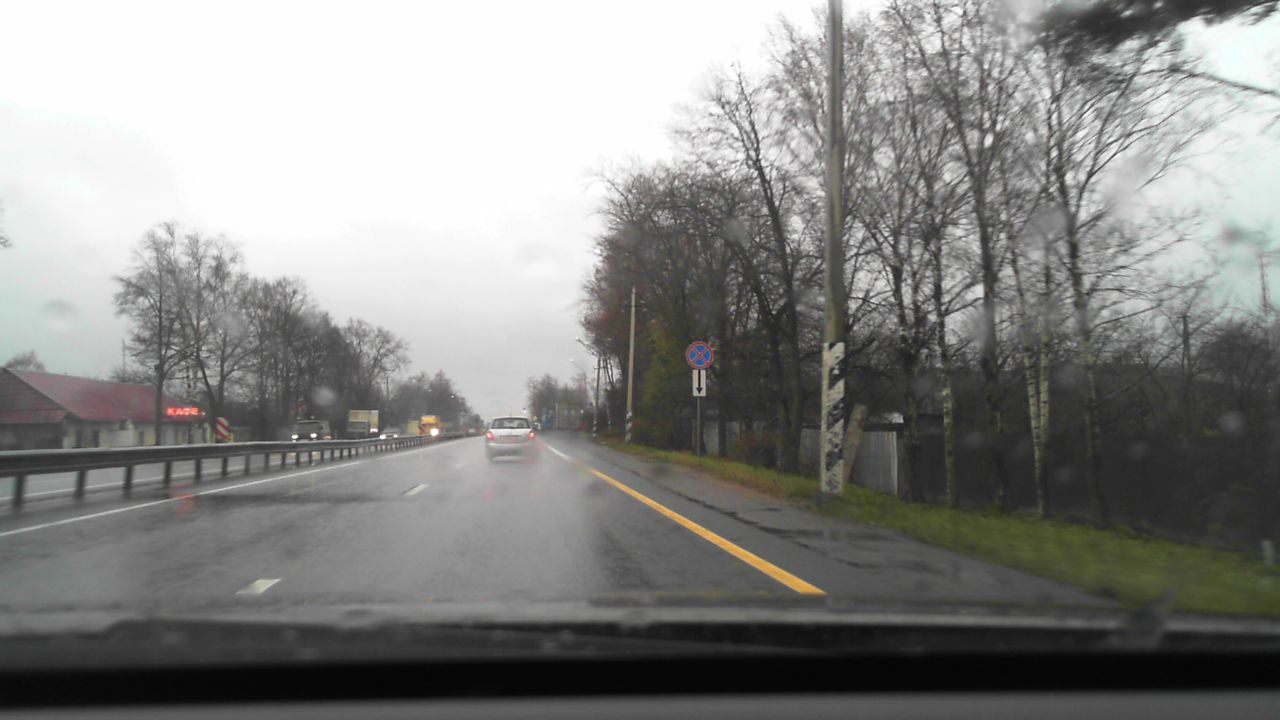No Parking: (685, 341, 713, 369)
